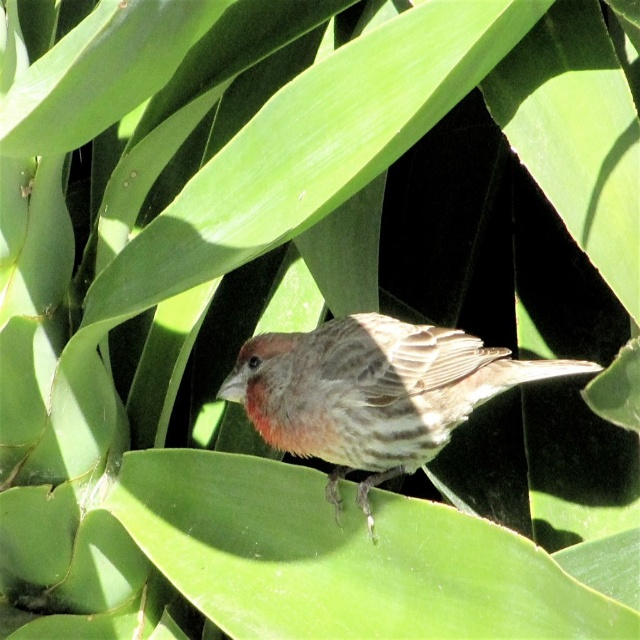Sparrow: (216, 310, 607, 542)
